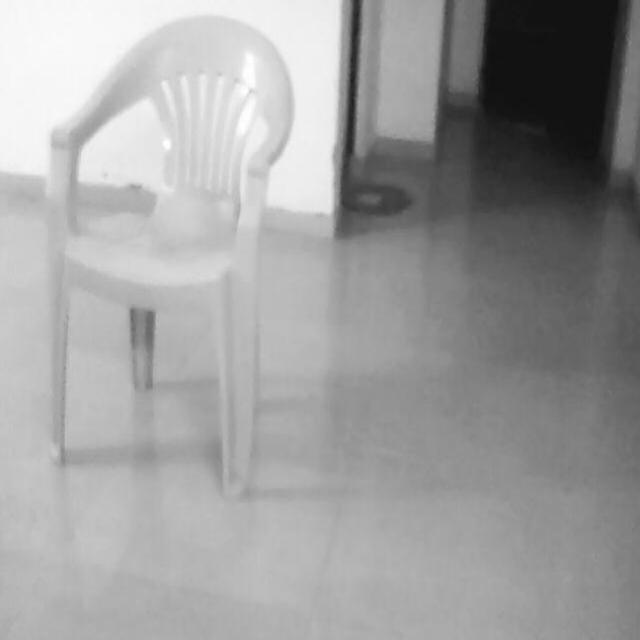chair ahead at: (42, 16, 294, 506)
